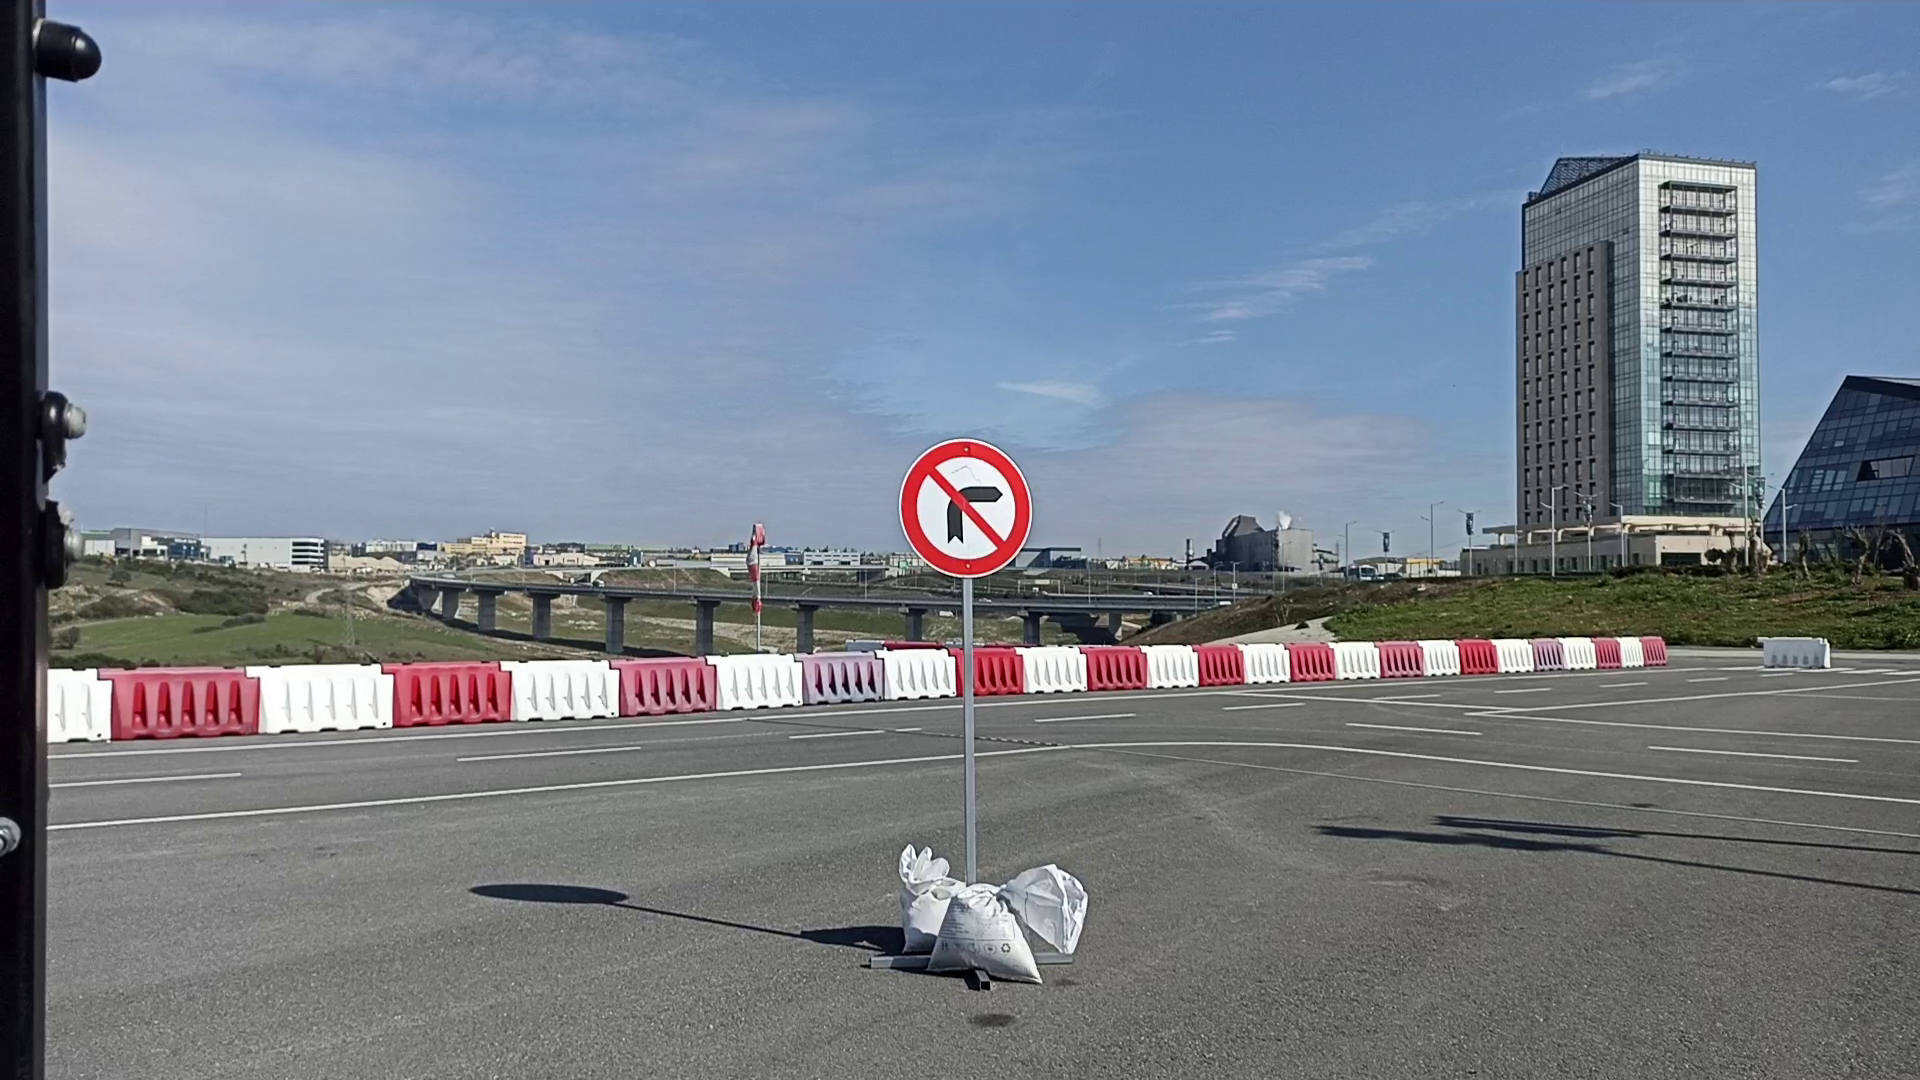noleftturn: (895, 434, 1035, 582)
